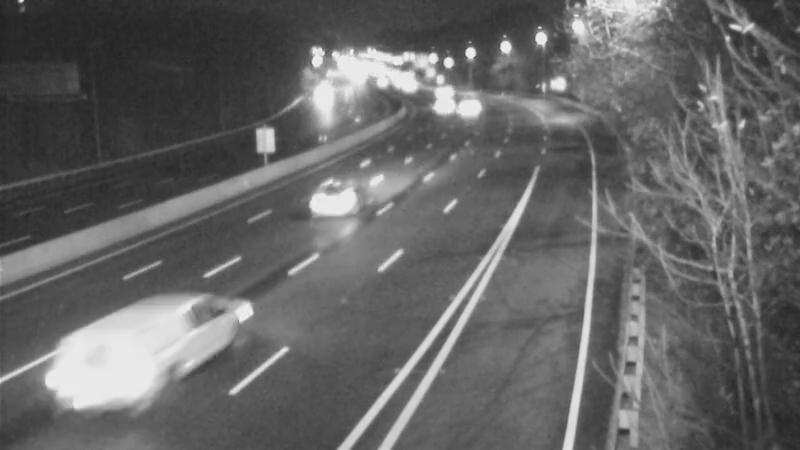vehicle: (48, 311, 158, 421), (294, 160, 374, 240), (410, 63, 460, 113), (414, 82, 464, 132), (449, 82, 499, 132), (296, 74, 346, 124)
